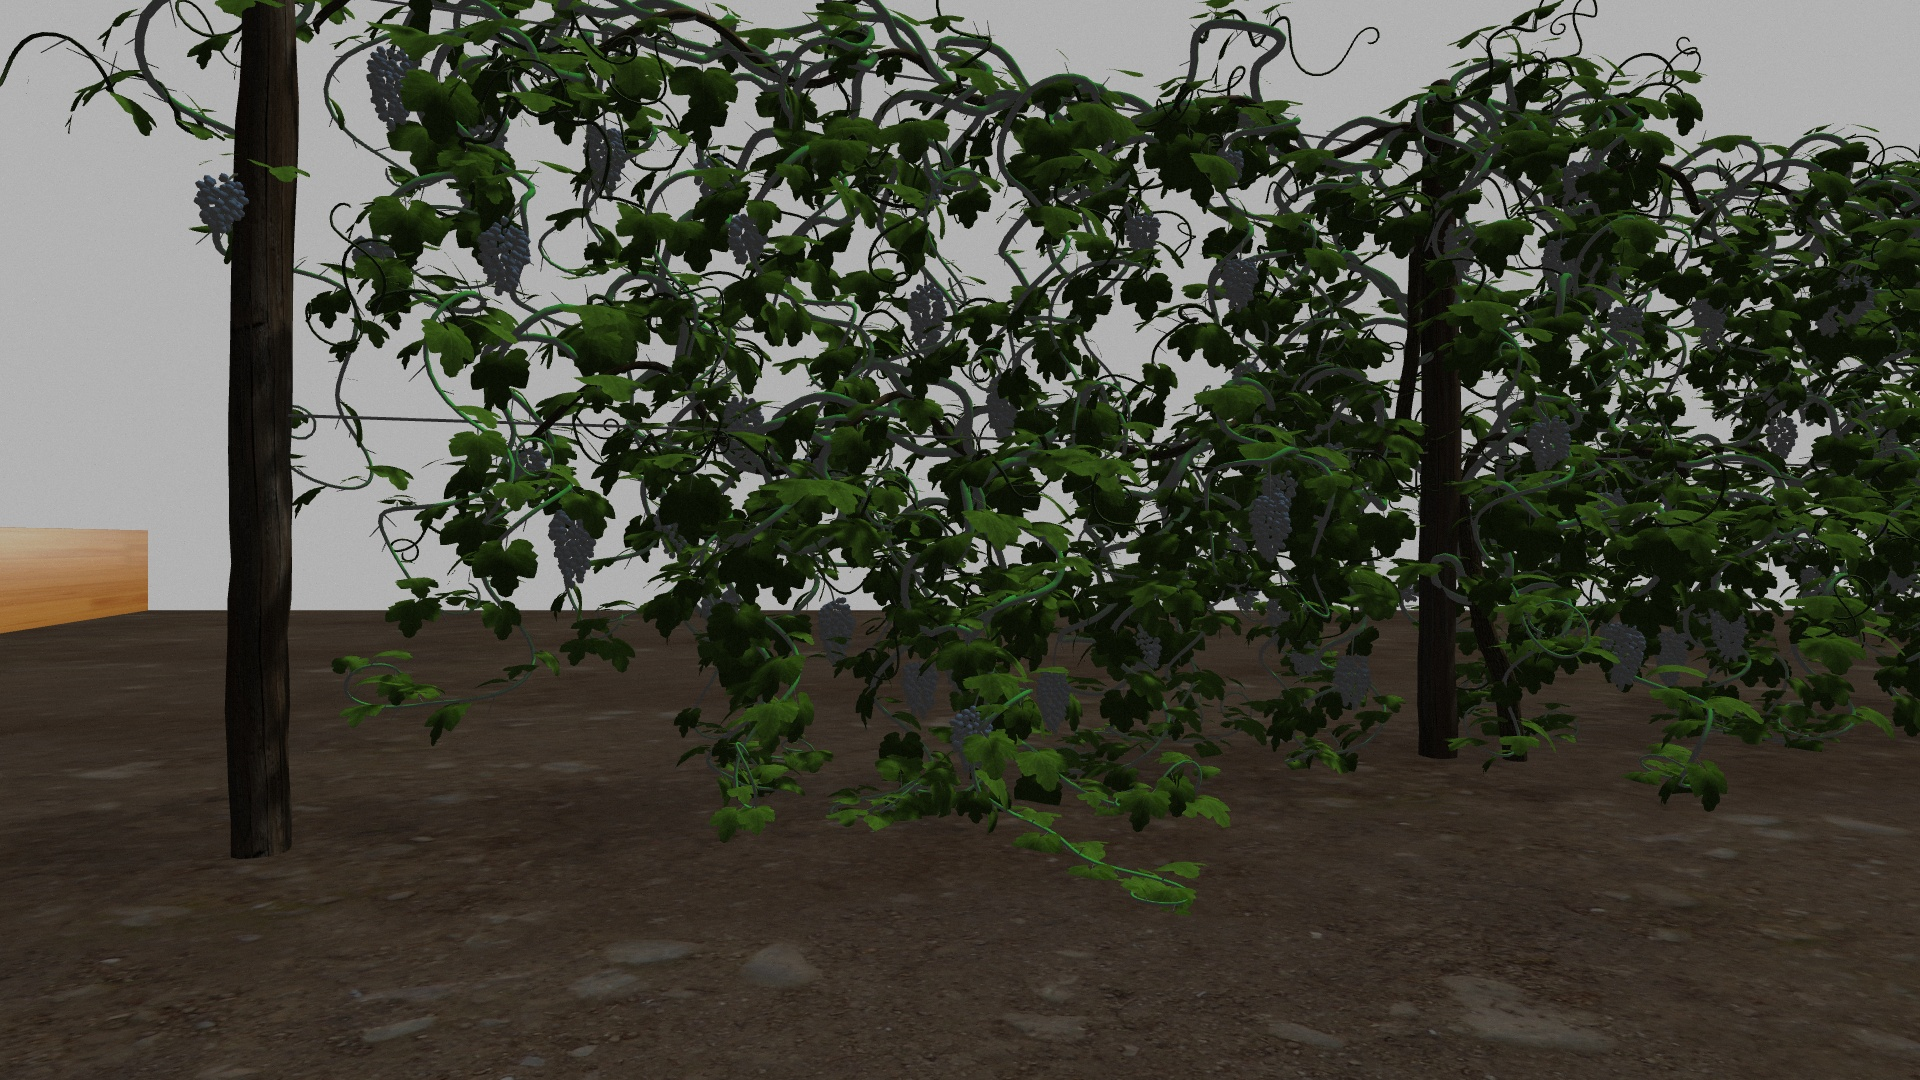grape: (1250, 468, 1298, 562), (477, 218, 531, 297), (367, 44, 415, 129), (549, 509, 597, 585), (193, 169, 249, 233), (582, 123, 626, 203), (818, 596, 858, 673), (906, 282, 949, 353), (723, 394, 766, 465), (1602, 618, 1644, 690), (898, 650, 942, 719), (1524, 414, 1573, 473), (1034, 670, 1072, 737), (984, 378, 1021, 443), (1710, 607, 1751, 665), (724, 214, 767, 268), (1220, 258, 1261, 314), (1124, 202, 1160, 262), (1544, 237, 1581, 297), (1654, 628, 1691, 687), (1691, 295, 1729, 351), (949, 703, 1000, 745), (1124, 621, 1163, 674), (1333, 653, 1371, 707), (1836, 276, 1876, 326), (1443, 223, 1477, 276), (1766, 415, 1799, 463), (1609, 303, 1646, 345), (1288, 638, 1327, 676)
